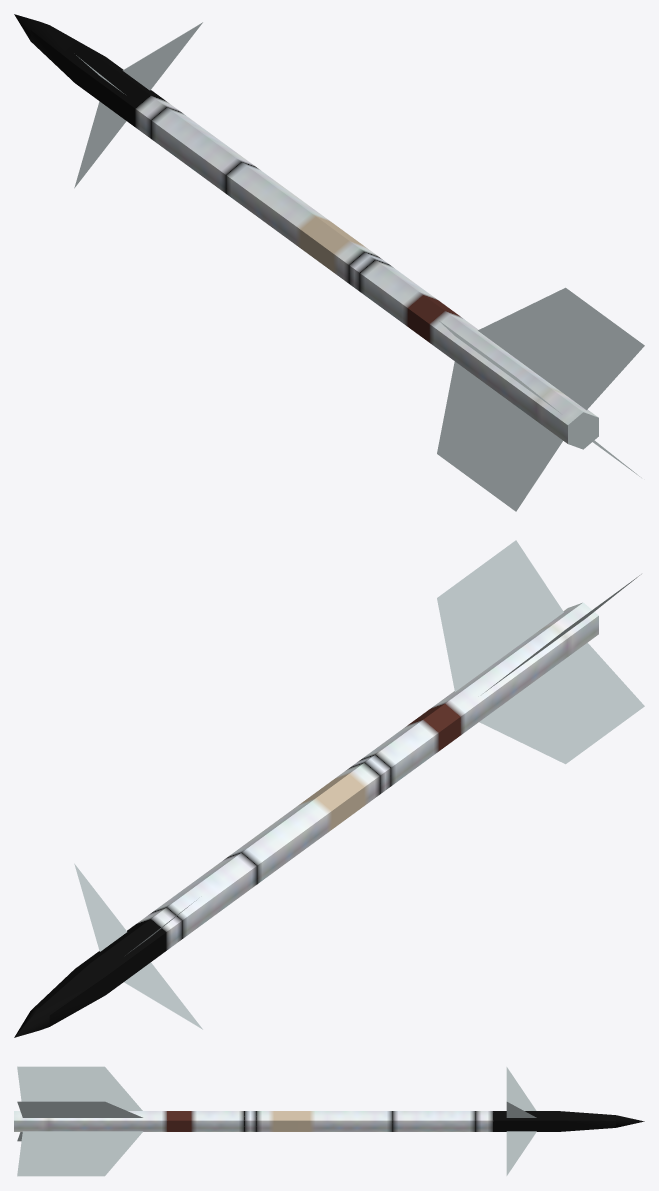
Rendered from sidewinder.fbx.
3 renders of one model, top to bottom at view 1: azimuth 30°, elevation 25°; view 2: azimuth 150°, elevation 25°; view 3: azimuth 270°, elevation 25°, orthographic. The views are drawn at different scales.
Visible parts, largest first — view 1: sidewinder; view 2: sidewinder; view 3: sidewinder.
Boxes of the visible parts, x1,y1,x2,y2 form: sidewinder: (14, 14, 644, 511); sidewinder: (14, 540, 644, 1037); sidewinder: (14, 1066, 644, 1176).
Bounding box in the file's own units: 10.19 × 10.19 × 77.67.
1 material, 1 textured.
